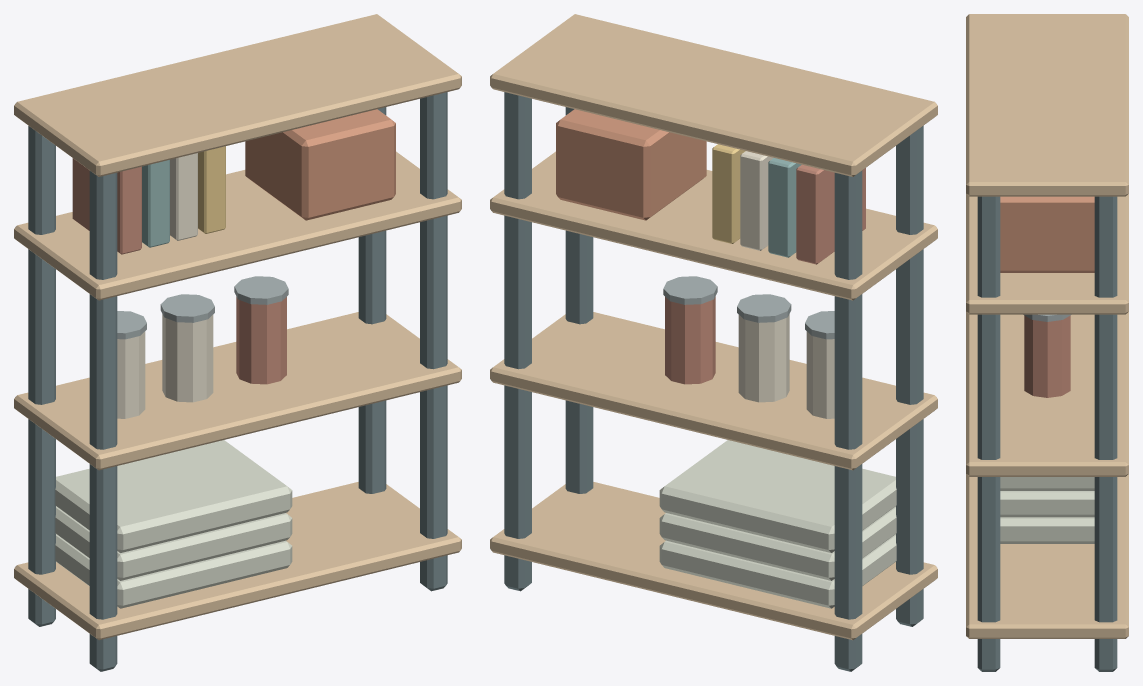
File: supply_shelf.glb
3 views of the same model, side by side, from view 1: azimuth 30°, elevation 25°; view 2: azimuth 150°, elevation 25°; view 3: azimuth 270°, elevation 25° (orthographic). The views are drawn at different scales.
Parts seen in each view (by area): view 1: supply_shelf; view 2: supply_shelf; view 3: supply_shelf.
Boxes of the visible parts, x1,y1,x2,y2 form: supply_shelf: (14,14,461,671); supply_shelf: (490,14,937,671); supply_shelf: (966,14,1128,671).
Bounding box in the file's own units: 1.24 × 1.67 × 0.5.
